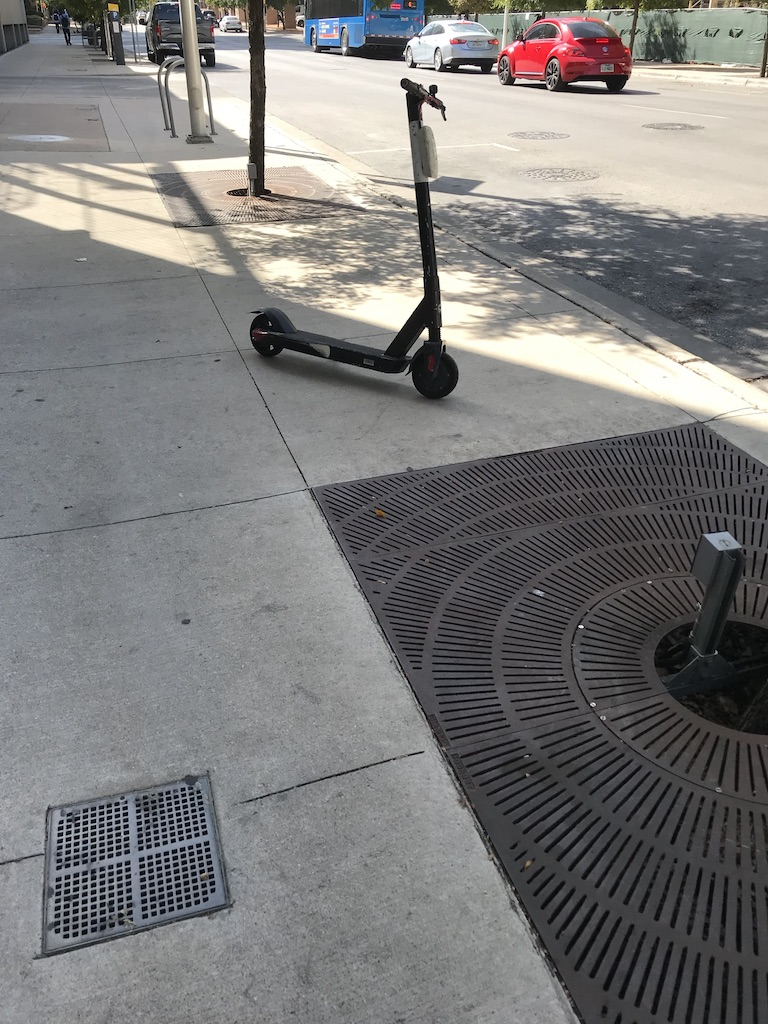scooter: (246, 79, 462, 401)
